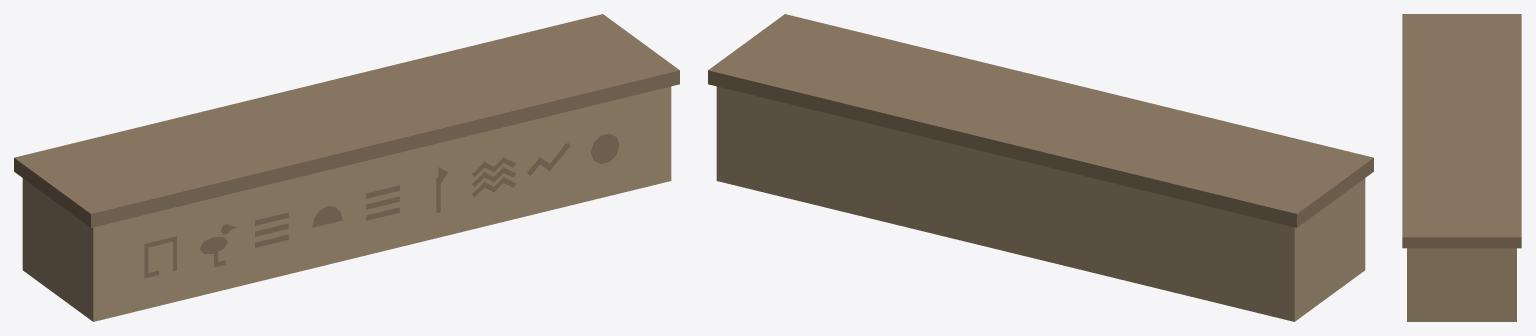
The model's file is lintel.glb.
3 views of the same model, side by side, from view 1: azimuth 30°, elevation 25°; view 2: azimuth 150°, elevation 25°; view 3: azimuth 270°, elevation 25° (orthographic). The views are drawn at different scales.
Visible parts, largest first — view 1: lintel; view 2: lintel; view 3: lintel.
Boxes of the visible parts, x1=… form: lintel: x1=14, y1=14, x2=679, y2=321; lintel: x1=708, y1=14, x2=1373, y2=321; lintel: x1=1402, y1=14, x2=1521, y2=321.
Bounding box in the file's own units: 5.3 × 0.96 × 1.2.
